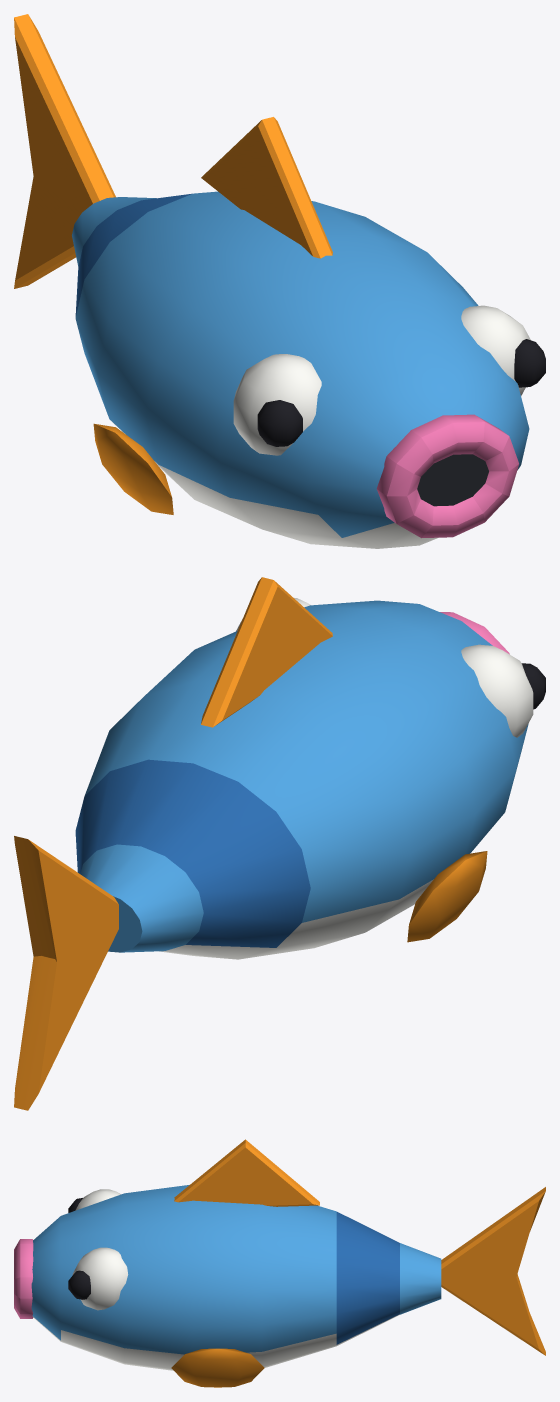
File: GorroPez.fbx
3 renders of one model, top to bottom at view 1: azimuth 30°, elevation 25°; view 2: azimuth 150°, elevation 25°; view 3: azimuth 270°, elevation 25°, orthographic. The views are drawn at different scales.
Parts seen in each view (by area): view 1: GorroPez; view 2: GorroPez; view 3: GorroPez.
Boxes of the visible parts, x1,y1,x2,y2 form: GorroPez: [14, 14, 545, 548]; GorroPez: [14, 577, 545, 1110]; GorroPez: [14, 1139, 545, 1387].
Size of the model in its own units: 0.91 by 0.88 by 1.93.
Materials: 1 (1 with a texture image).
